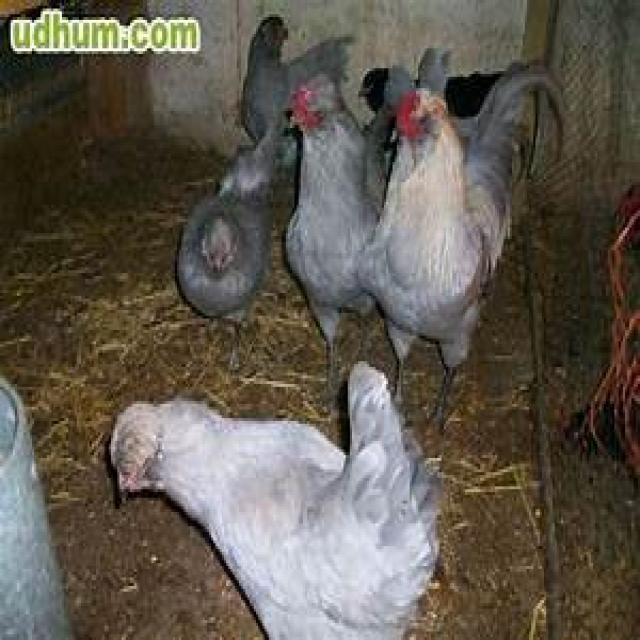chicken: (73, 397, 459, 640), (372, 92, 525, 380), (277, 78, 380, 370), (230, 8, 304, 178)
